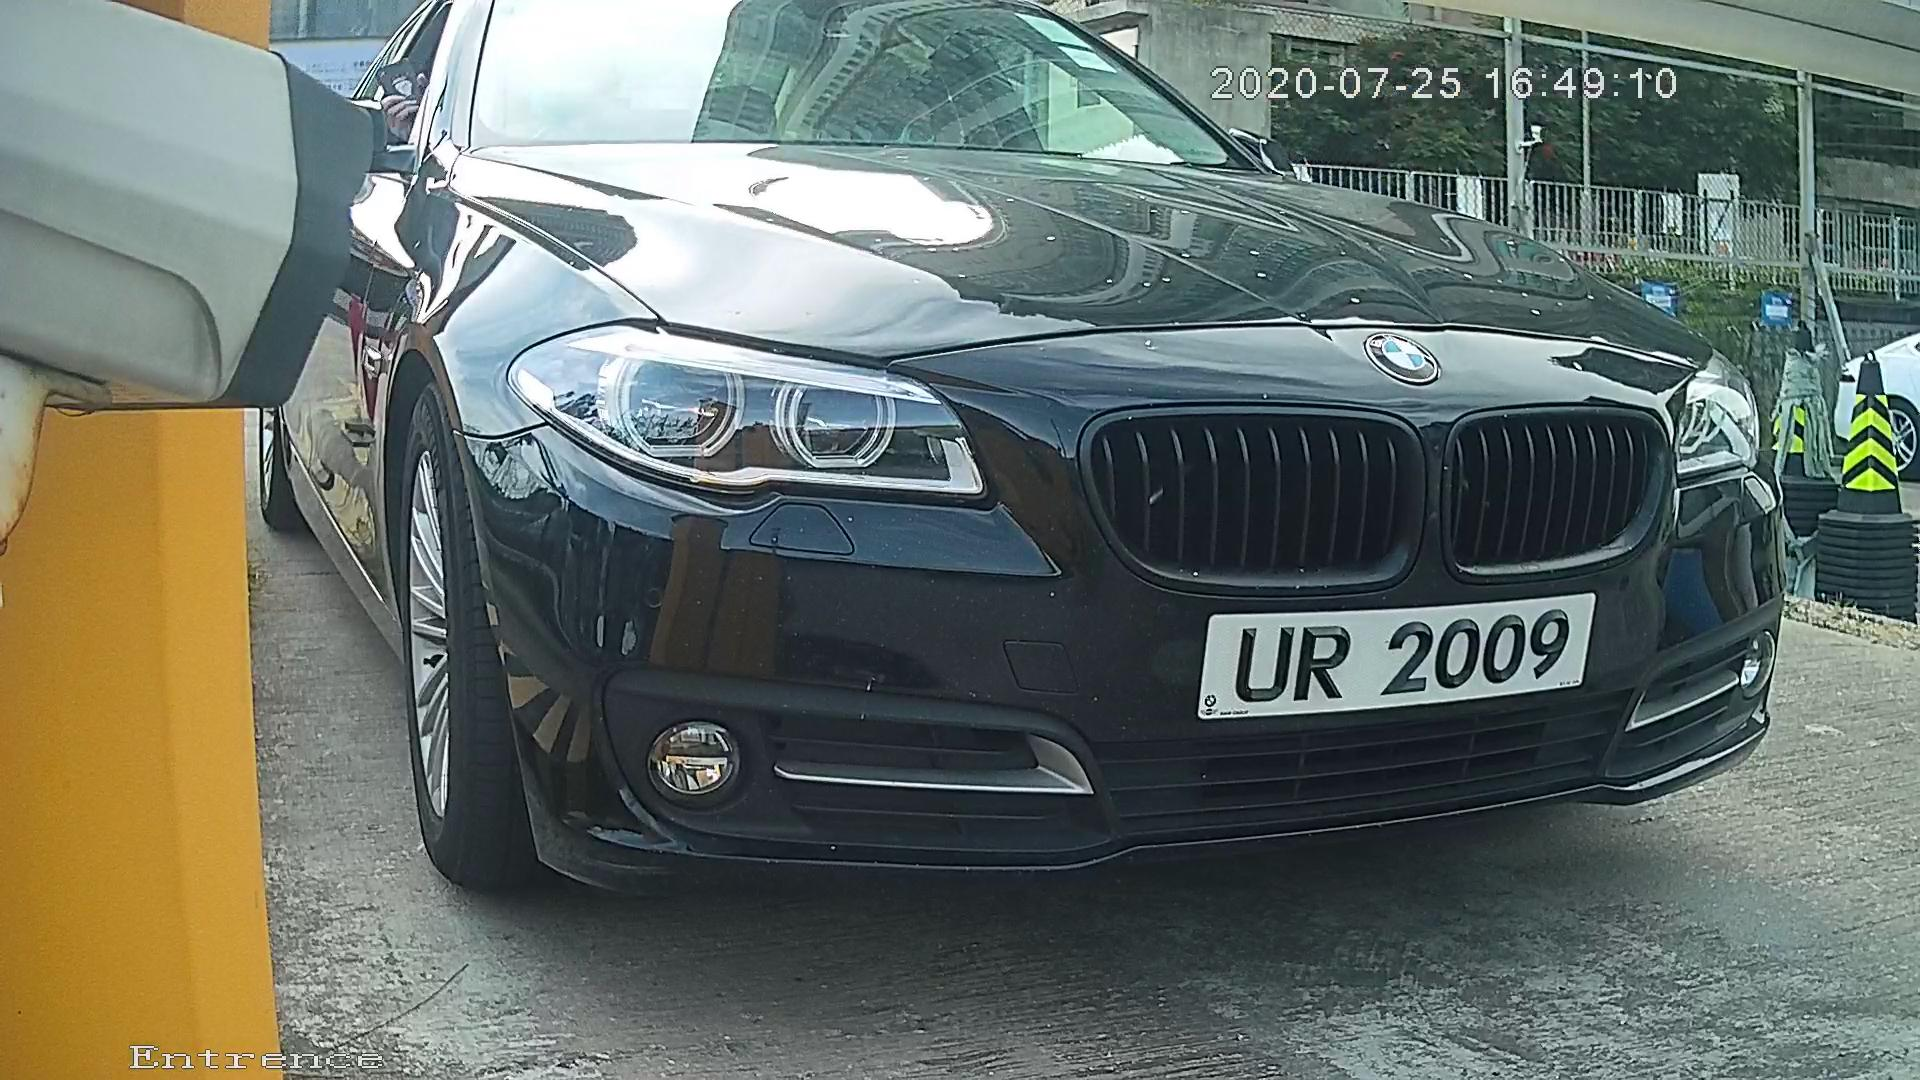Car: (95, 1, 1920, 970)
License Plate: (1175, 574, 1612, 743)
